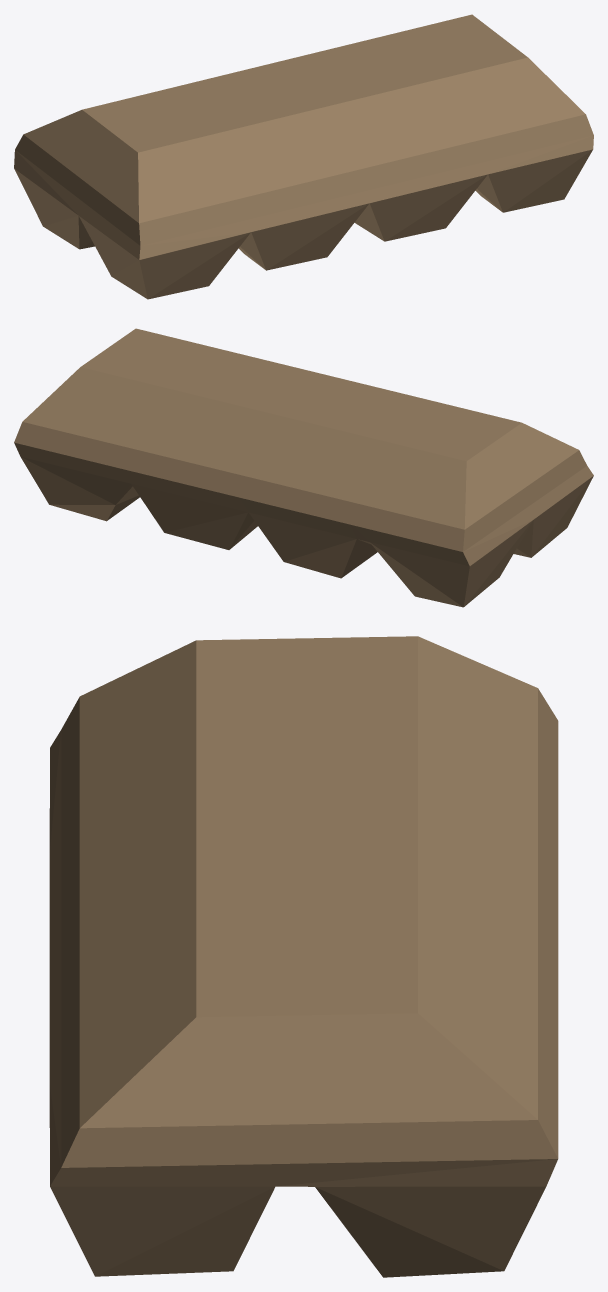
File: eggBox.fbx
3 views of the same model, one above another, from view 1: azimuth 30°, elevation 25°; view 2: azimuth 150°, elevation 25°; view 3: azimuth 270°, elevation 25° (orthographic). The views are drawn at different scales.
Visible parts, largest first — view 1: eggBox; view 2: eggBox; view 3: eggBox.
Part boxes in pixels (bbox=[...]): eggBox: bbox=[14, 14, 593, 299]; eggBox: bbox=[14, 328, 593, 607]; eggBox: bbox=[49, 636, 558, 1277].
Size of the model in its own units: 41.11 by 11.43 by 19.99.
1 material, 1 textured.
